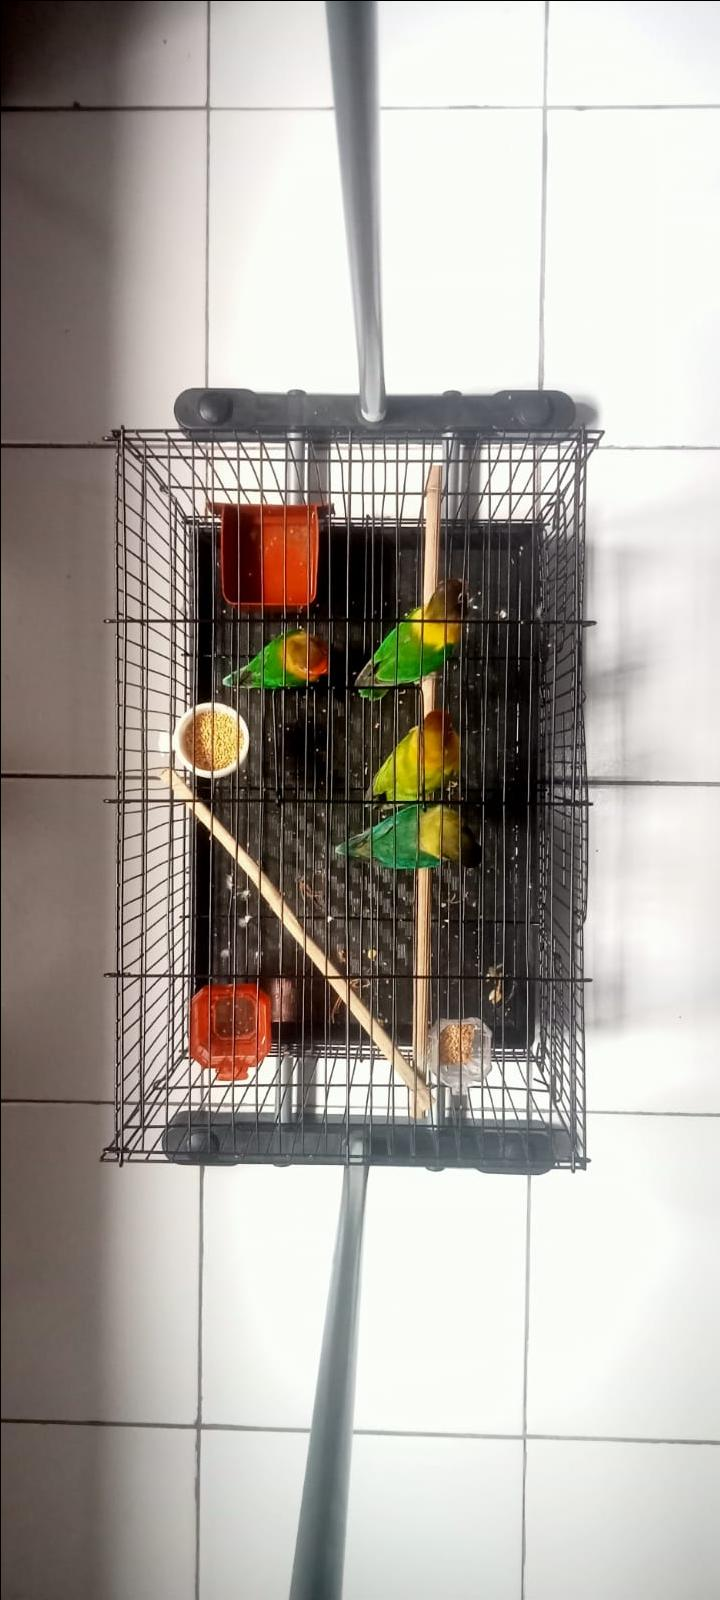LoveBird: (353, 577, 467, 700), (332, 801, 483, 868), (362, 710, 461, 809), (220, 630, 329, 689)
